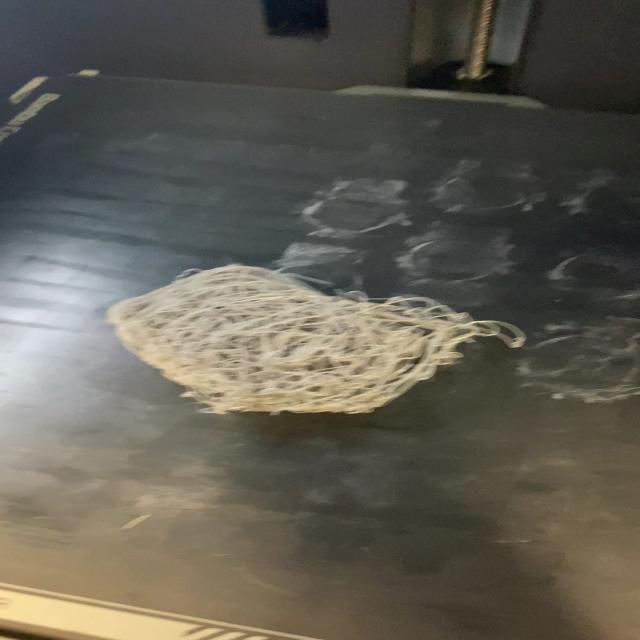spaghetti: (103, 262, 530, 418)
